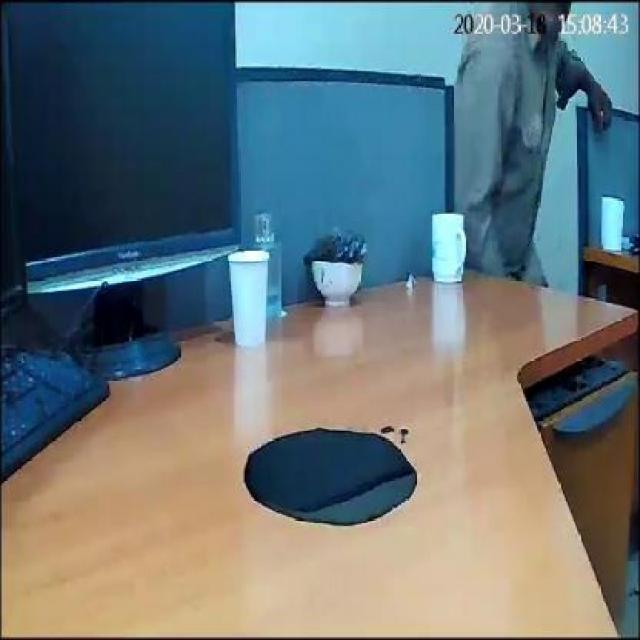spill: (238, 427, 424, 533)
